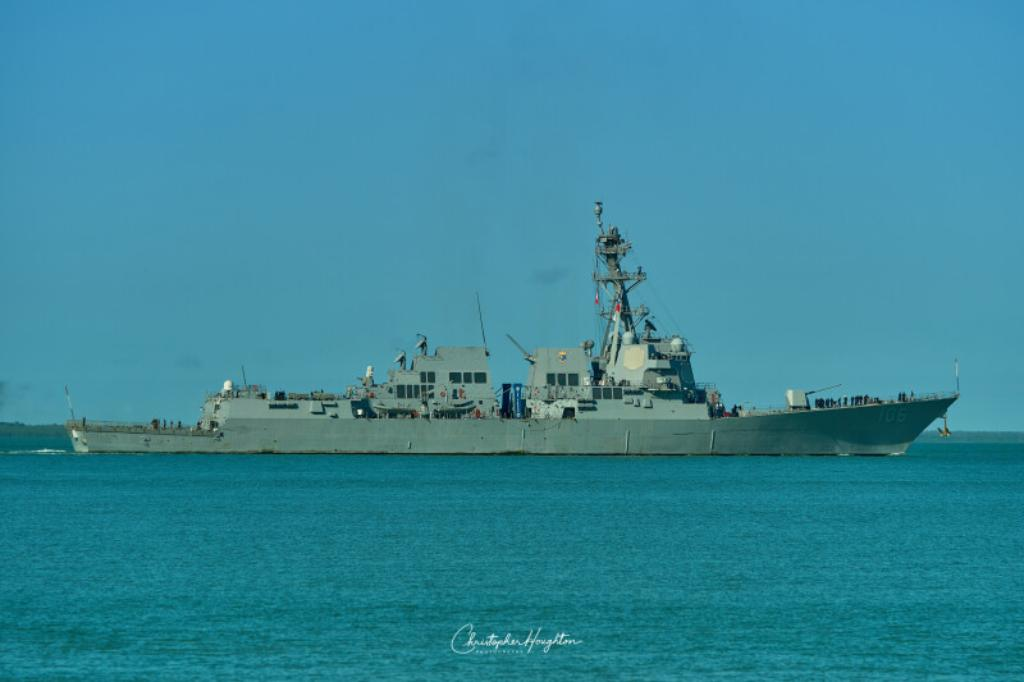Warship: (66, 194, 962, 457)
